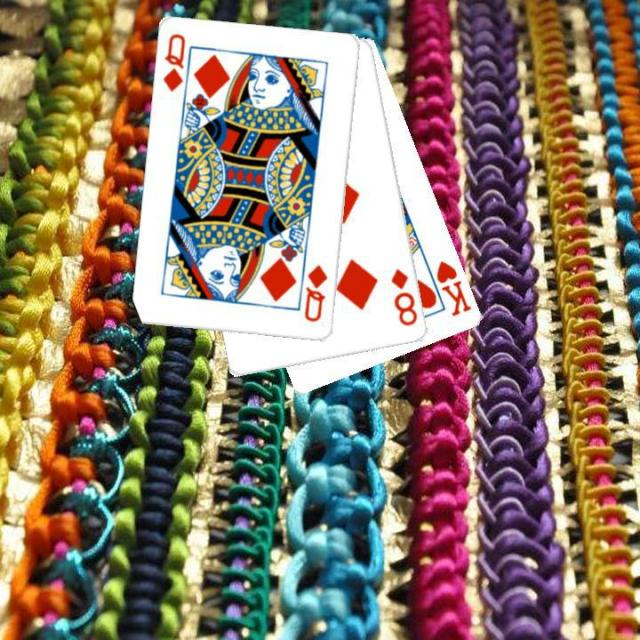8D: (388, 265, 420, 328)
KH: (432, 257, 474, 318)
QD: (300, 262, 330, 324), (159, 30, 188, 94)
